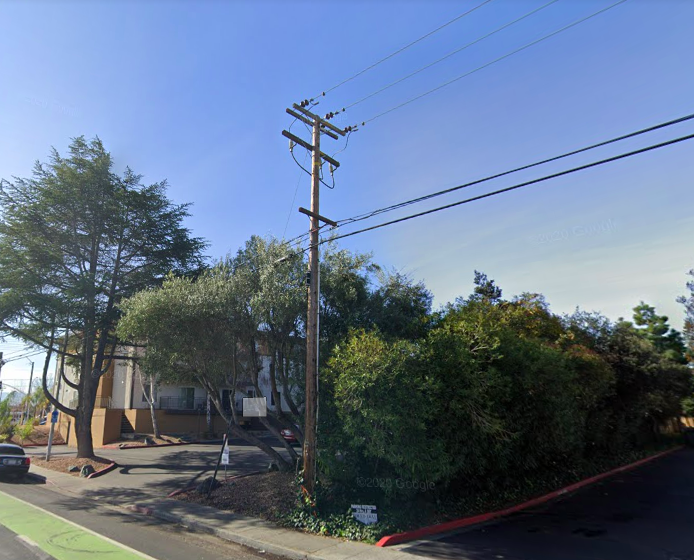utility_pole: (277, 92, 357, 181)
